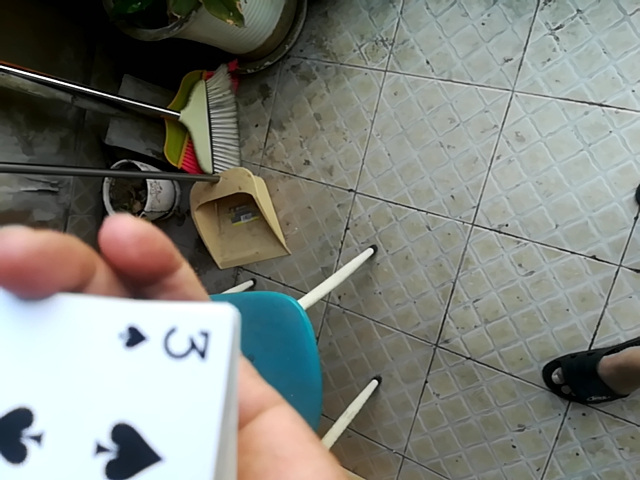ht 3: (0, 296, 232, 480)
